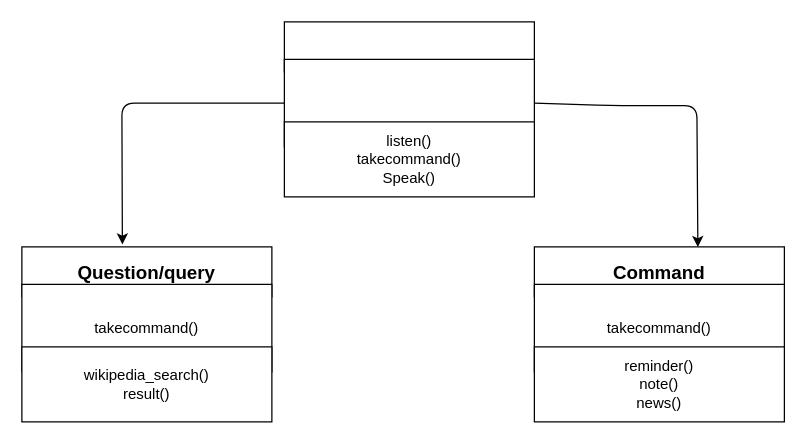
The diagram is 806 pixels wide and 444 high, and some of its shapes have lost their labels. Here are the shapes that lost their labels. From the top down, the centre of each, then its label:
At (x=408, y=46): "User".
At (x=408, y=102): "user audio() response audio()".
